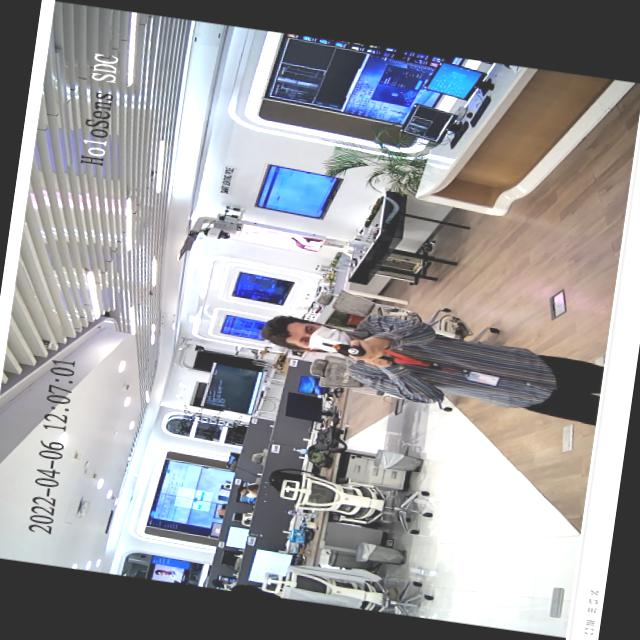long weapon: (317, 336, 375, 362)
